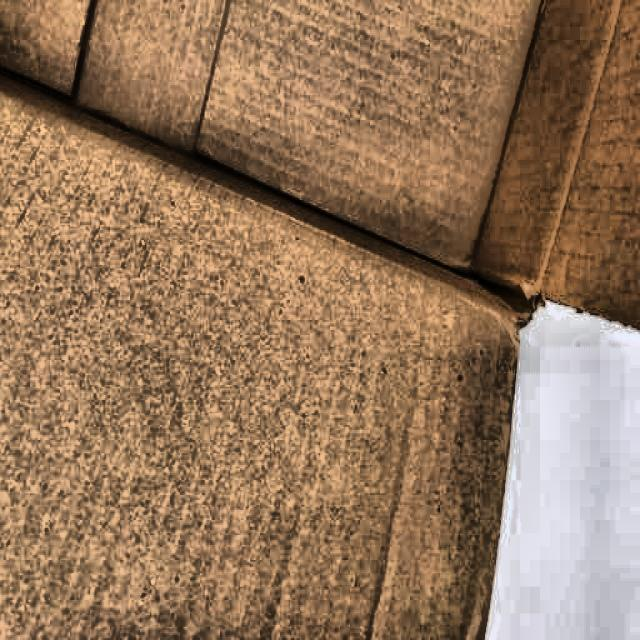cardboard: (9, 7, 598, 584)
